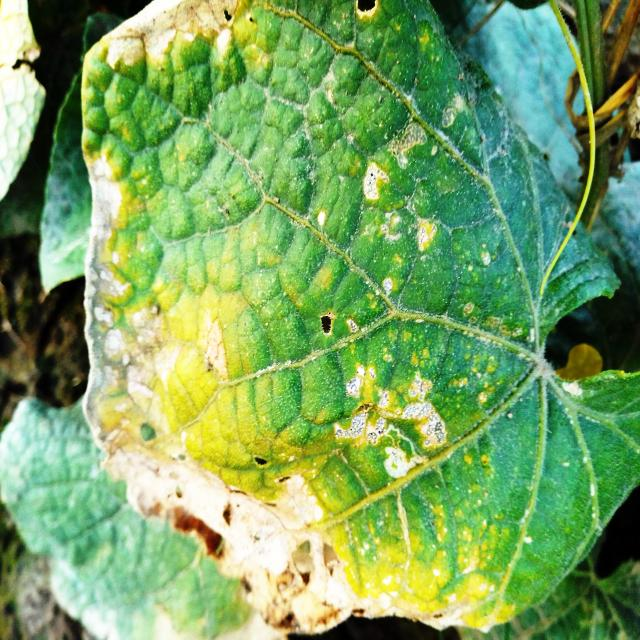Gummy-Stem-Blight: (77, 151, 475, 639), (100, 1, 248, 71)
